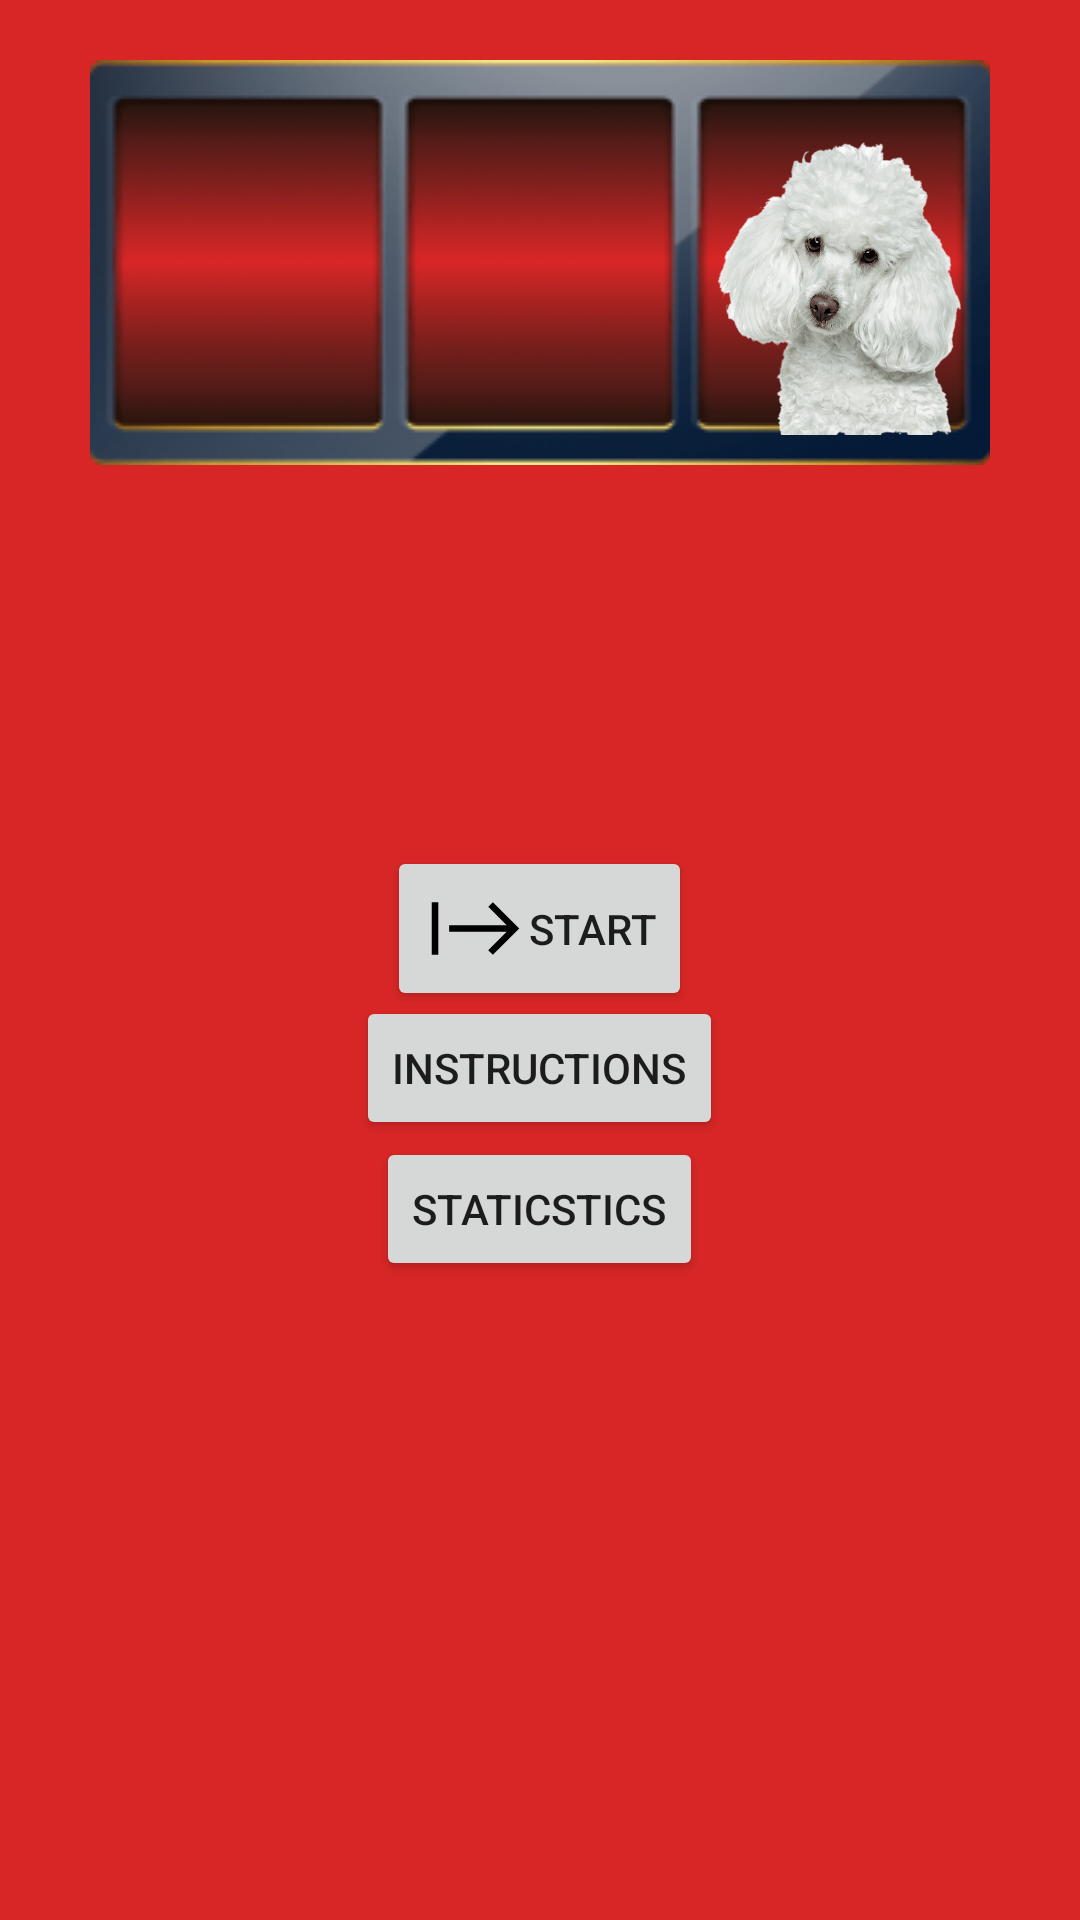

Screen size 1080*1920. Icon name, then its center in pixels as point (x, y):
dog: point (840, 285)
